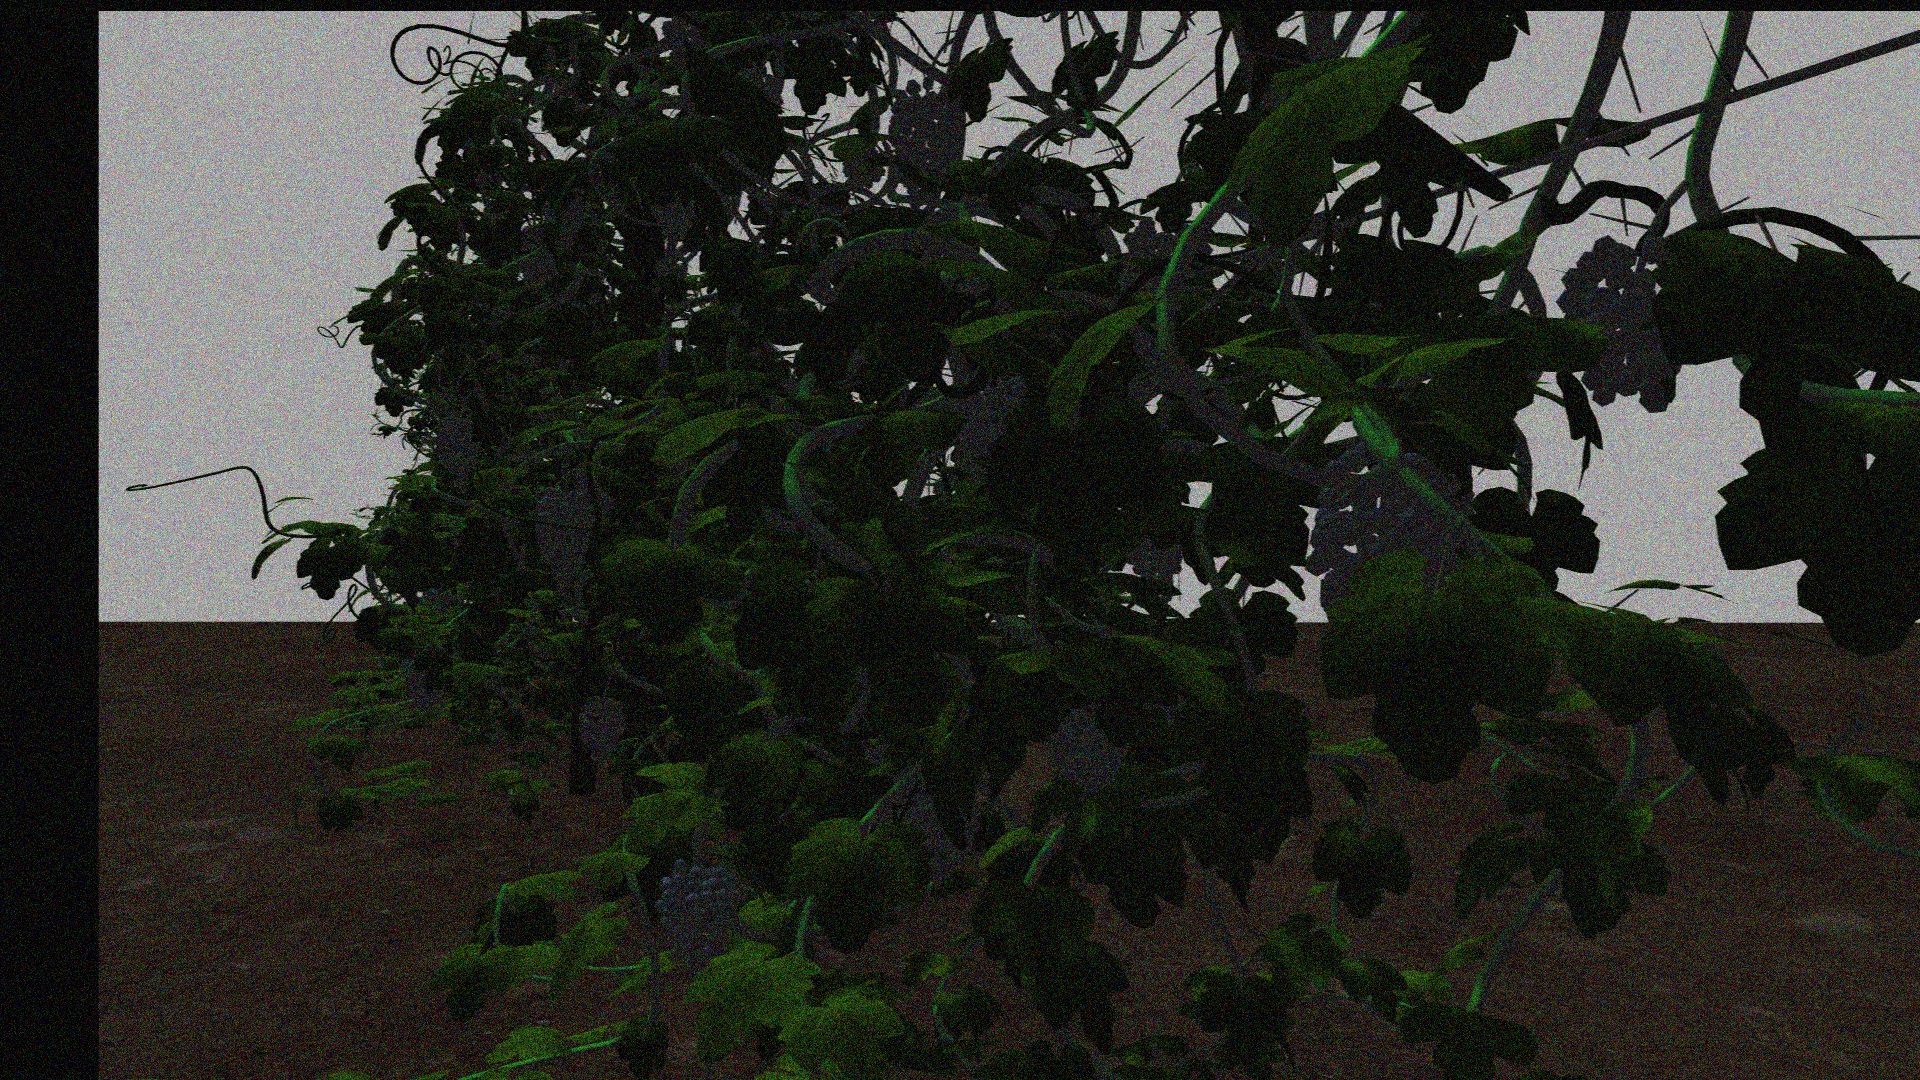grape: (1305, 439, 1472, 611), (1557, 232, 1679, 414), (884, 80, 963, 215), (653, 860, 741, 980), (1042, 704, 1131, 799), (531, 491, 597, 604), (576, 694, 626, 771), (433, 411, 481, 485), (541, 186, 584, 255), (514, 225, 556, 293), (400, 651, 440, 712)
